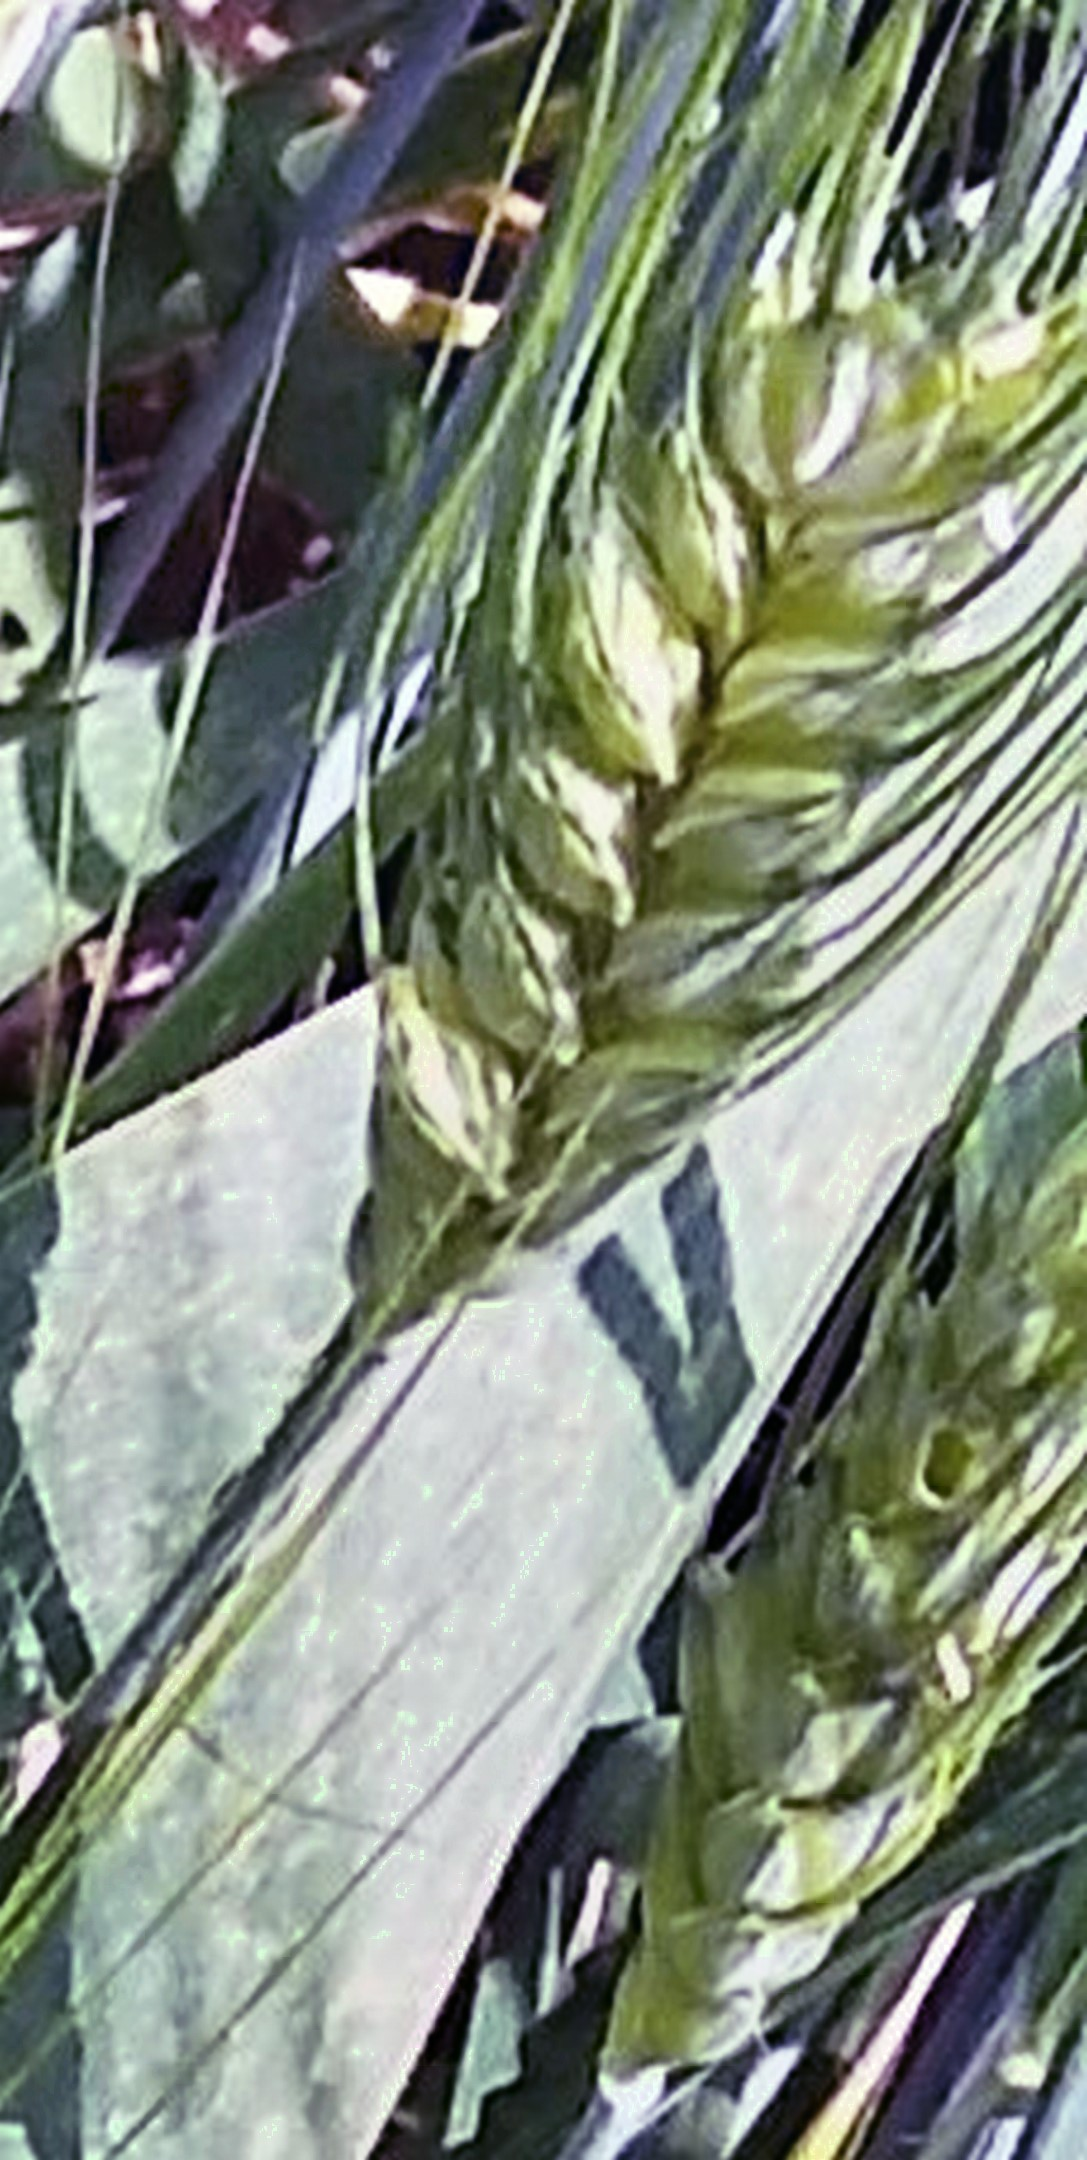Healthy Wheat: (349, 247, 1087, 1305)
